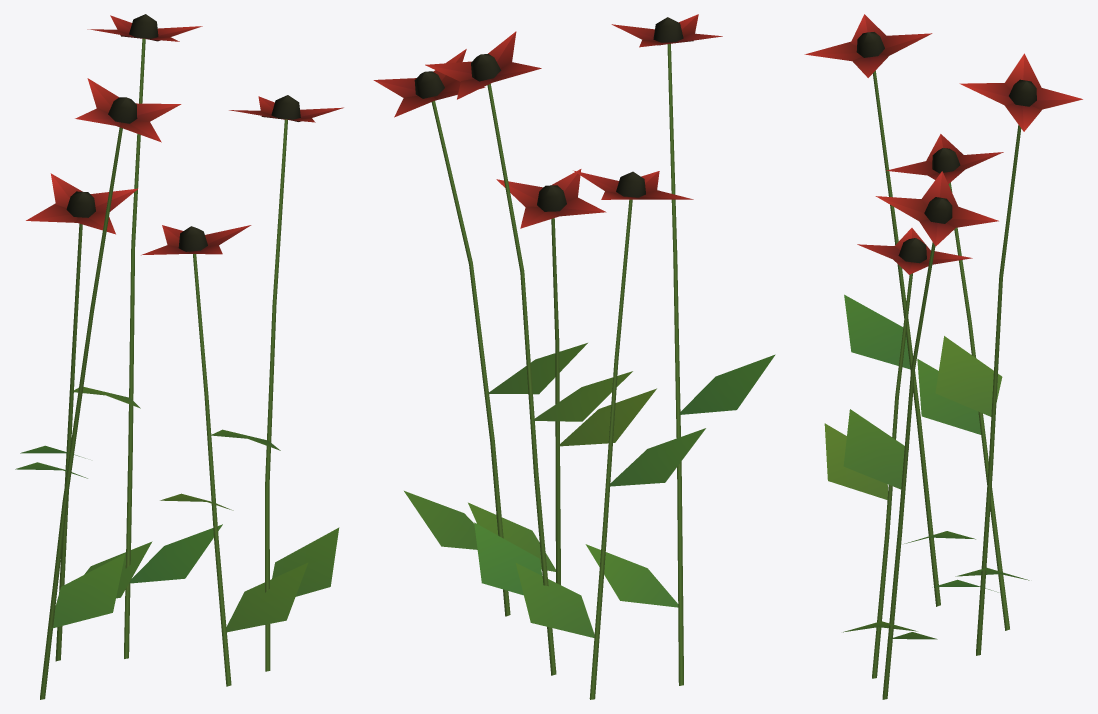
Rendered from flower-poppy-b.lod1.glb.
3 renders of one model, left to right at view 1: azimuth 30°, elevation 25°; view 2: azimuth 150°, elevation 25°; view 3: azimuth 270°, elevation 25°, orthographic. The views are drawn at different scales.
Visible parts, largest first — view 1: flower-poppy-b.lod1; view 2: flower-poppy-b.lod1; view 3: flower-poppy-b.lod1.
Part boxes in pixels (left/top/right/bottom): flower-poppy-b.lod1: left=15, top=14, right=343, bottom=699; flower-poppy-b.lod1: left=373, top=14, right=775, bottom=699; flower-poppy-b.lod1: left=804, top=14, right=1082, bottom=699.
Bounding box in the file's own units: 0.3239 × 0.5497 × 0.2336.
